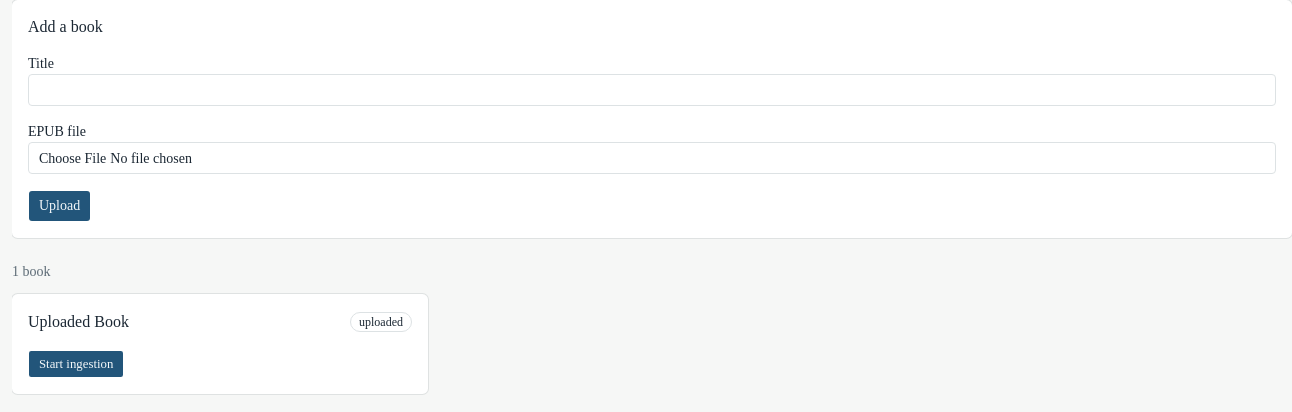
Test case: LibraryScreen (ingestion start) › starts ingestion through the proxy and reflects processing on success
expect the text "Uploaded Book" is shown: met, box top-left (28, 310), bottom-right (129, 334)
Click the button "Start ingestion".
click(76, 364)  # box top-left (28, 350), bottom-right (124, 378)
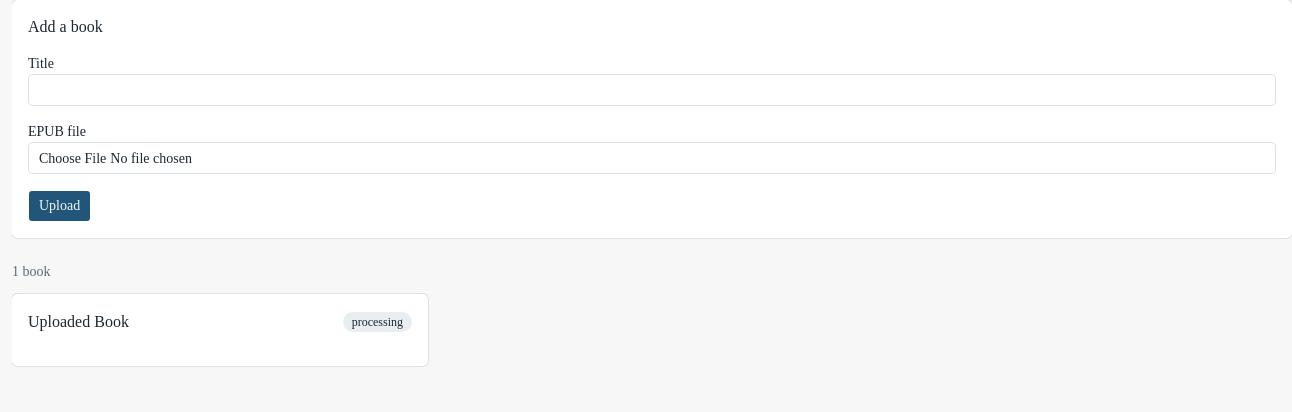
expect the text with test id "status-s-up" reads "processing": met, box top-left (352, 315), bottom-right (403, 329)
expect the button "Start ingestion" is gone: met
